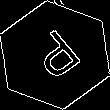P_SE: (23, 24, 87, 86)
